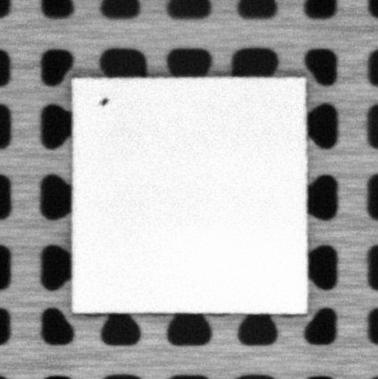DIE_INK: (96, 95, 110, 107)
